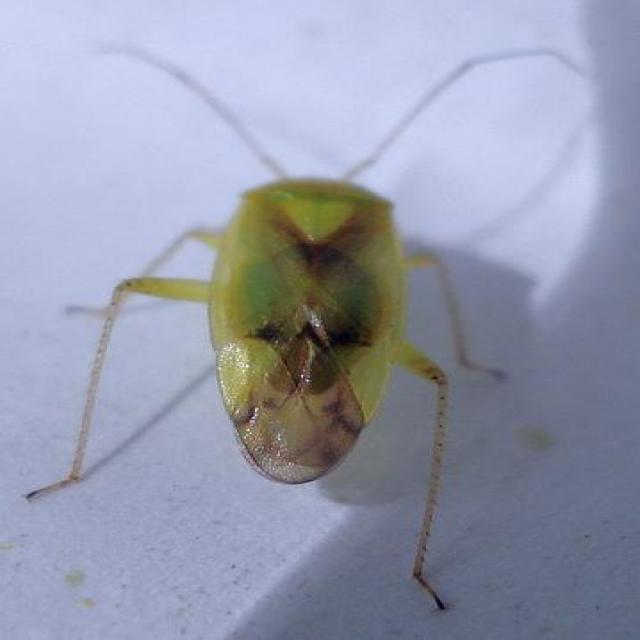Miridae-Adult-: (73, 39, 575, 533)
